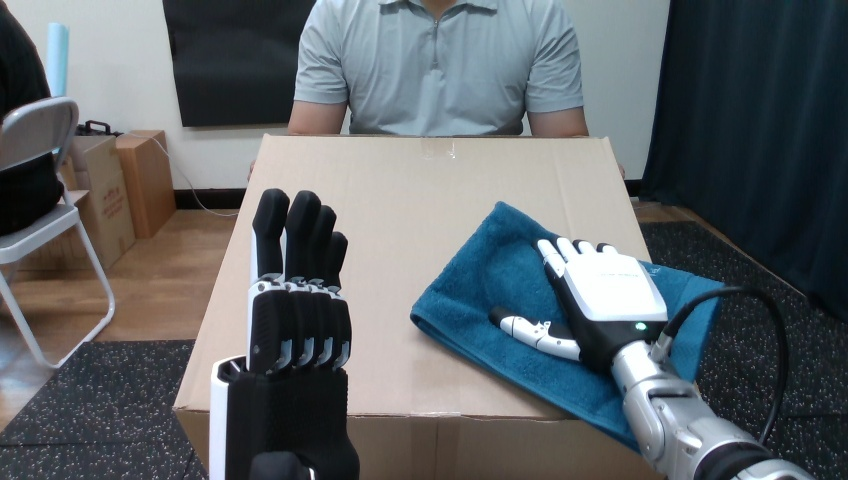left robot hand: (489, 237, 813, 479), (209, 188, 358, 479), (669, 293, 779, 441)
